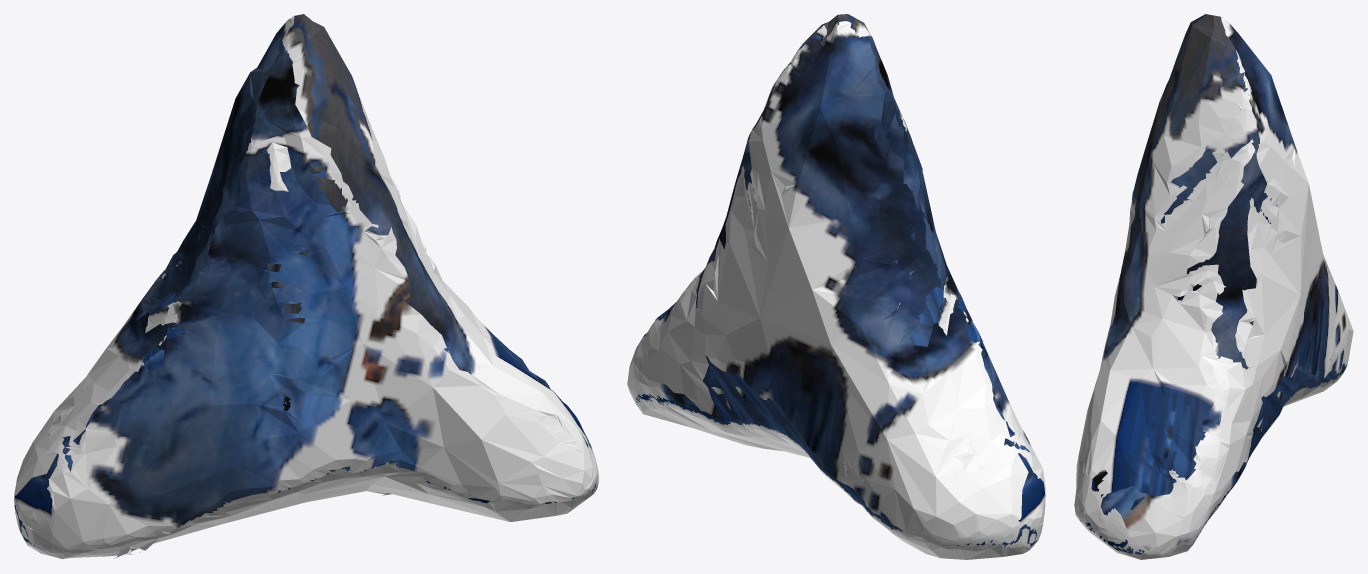
The model's file is tri.obj.
The picture shows the model from 3 angles, left to right: view 1: azimuth 30°, elevation 25°; view 2: azimuth 150°, elevation 25°; view 3: azimuth 270°, elevation 25°; orthographic projection. The views are drawn at different scales.
Bounding box in the file's own units: 92.14 × 88.77 × 50.96.
